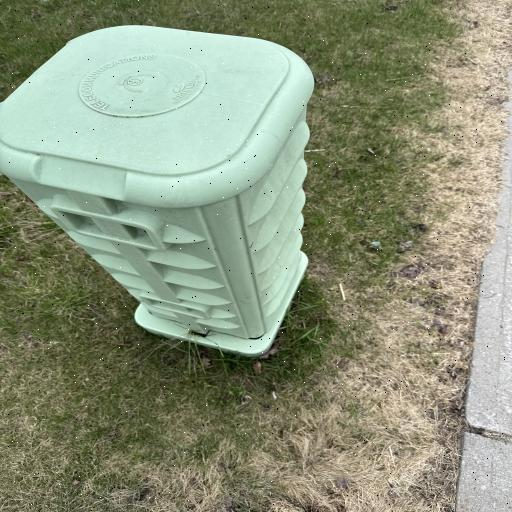Electrical Box: (0, 25, 315, 354)
